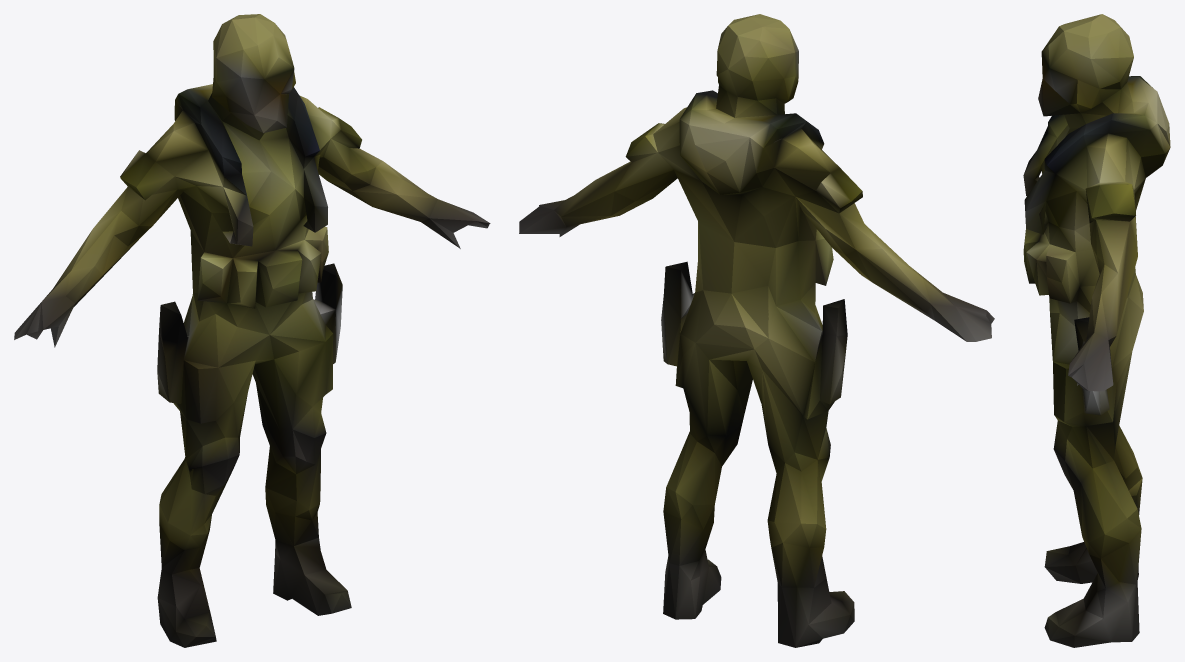
File: 防化兵1000面黄色小背包.fbx
3 views of the same model, side by side, from view 1: azimuth 30°, elevation 25°; view 2: azimuth 150°, elevation 25°; view 3: azimuth 270°, elevation 25° (orthographic).
Parts seen in each view (by area): view 1: mesh_uv.obj; view 2: mesh_uv.obj; view 3: mesh_uv.obj.
Part boxes in pixels (bbox=[...]): mesh_uv.obj: bbox=[14, 14, 490, 647]; mesh_uv.obj: bbox=[519, 14, 994, 647]; mesh_uv.obj: bbox=[1023, 14, 1170, 647].
Size of the model in its own units: 95.02 by 115 by 25.95.
1 material, 1 textured.
